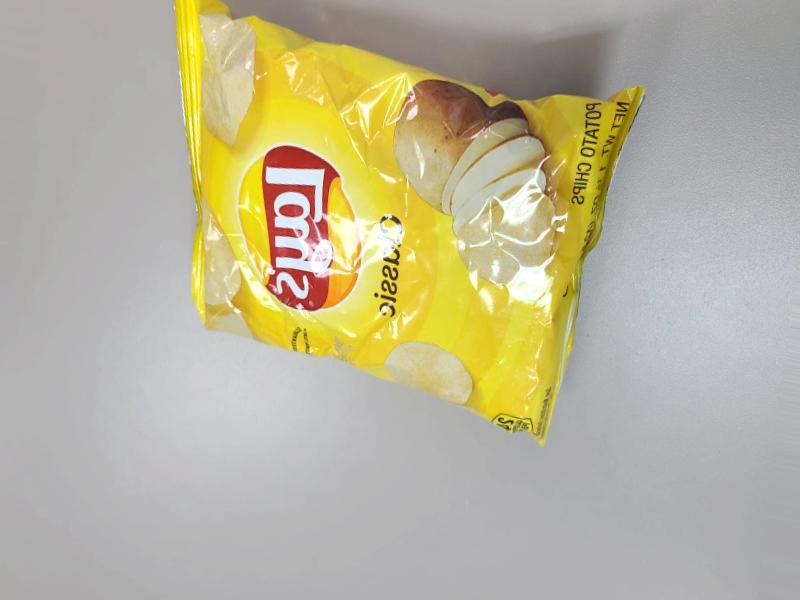lays: (294, 0, 682, 476)
